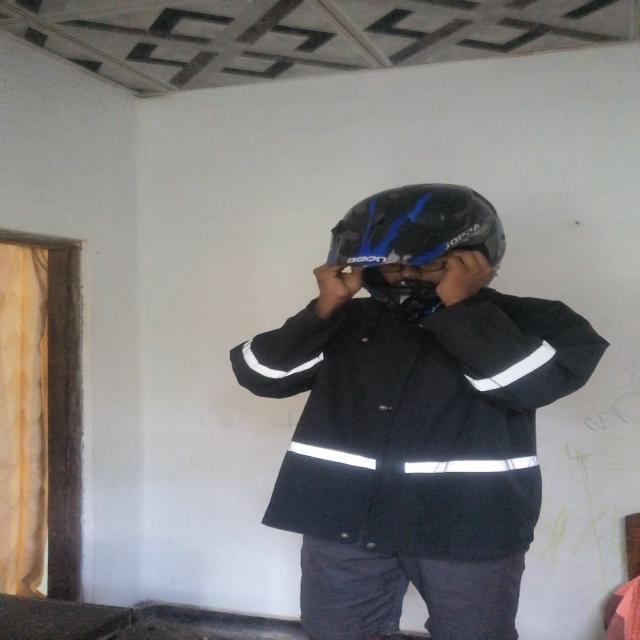Helmet_Wearer: (332, 181, 531, 300)
Jacket_Wearer: (196, 263, 604, 520)
